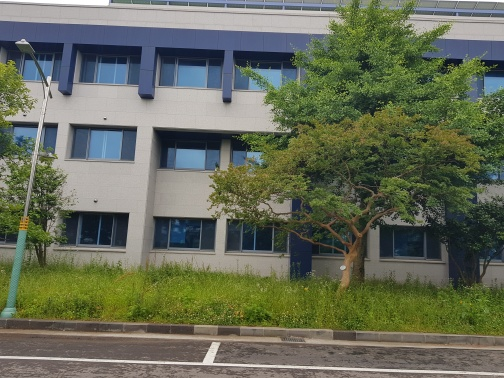College of Social Sciences: (23, 8, 497, 285), (50, 15, 250, 110)
